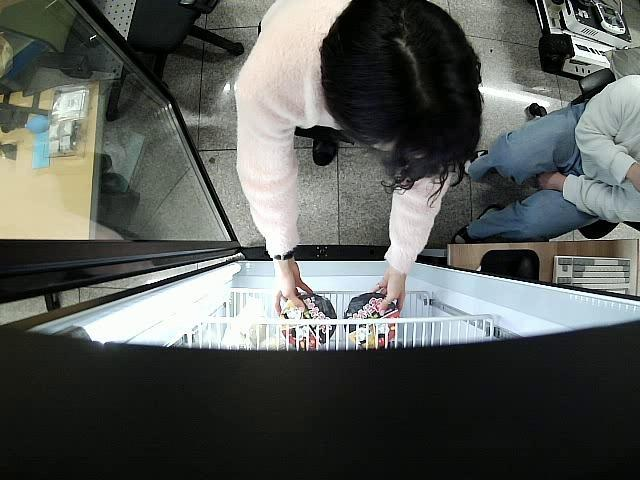07_buldak_L: (346, 294, 402, 348), (280, 294, 336, 348)
